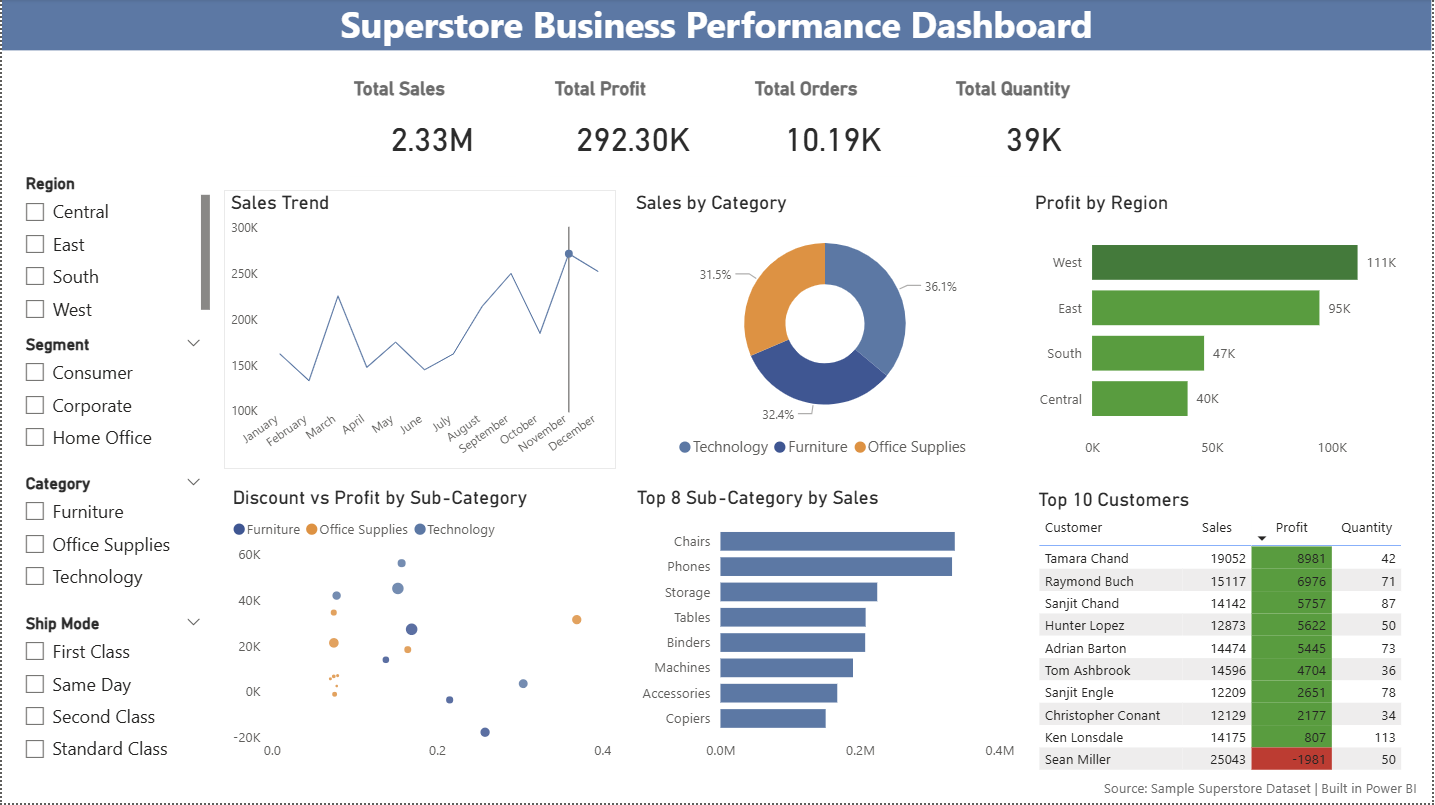

Layout of this report page (visuals, bound fields, positions):
{"tool":"powerbi","page":{"name":"Page 1","canvas":[1280,720],"ordinal":0},"visuals":[{"type":"card","title":"Total Sales","fields":{"Values":["Sum(samplesuperstore.Sales)"]},"box":[309.3,69.3,152.2,91],"z":0},{"type":"card","title":"Total Profit","fields":{"Values":["Sum(samplesuperstore.Profit)"]},"box":[489.3,69.3,152,91],"z":1000},{"type":"card","title":"Total Quantity","fields":{"Values":["Sum(samplesuperstore.Quantity)"]},"box":[848.3,69.3,152,91],"z":2000},{"type":"card","title":"Total Orders","fields":{"Values":["CountNonNull(samplesuperstore.Order ID)"]},"box":[668.3,69.3,152.2,91],"z":3000},{"type":"lineChart","title":"Sales Trend","fields":{"Y":["Sum(samplesuperstore.Sales)"],"Category":["samplesuperstore.Order Date.Variation.Date Hierarchy.Month"]},"box":[199,170.7,351,250],"z":4000},{"type":"donutChart","title":"Sales by Category","fields":{"Category":["samplesuperstore.Category"],"Y":["Sum(samplesuperstore.Sales)"]},"box":[561.5,170.7,351,250],"z":5000},{"type":"clusteredBarChart","title":"Profit by Region","fields":{"Category":["samplesuperstore.Region"],"Y":["Sum(samplesuperstore.Profit)"]},"box":[924,170.7,351,250],"z":6000},{"type":"scatterChart","title":"Discount vs Profit by Sub-Category","fields":{"X":["Avg(samplesuperstore.Discount)"],"Y":["Sum(samplesuperstore.Profit)"],"Category":["samplesuperstore.Sub-Category"],"Size":["Sum(samplesuperstore.Sales)"],"Series":["samplesuperstore.Category"]},"box":[201,435.7,351,257],"z":7000},{"type":"clusteredBarChart","title":"Top 8 Sub-Category by Sales","fields":{"Category":["samplesuperstore.Sub-Category"],"Y":["Sum(samplesuperstore.Sales)"]},"box":[562.5,435.7,351,257],"z":8000},{"type":"tableEx","title":"Top 10 Customers","fields":{"Values":["samplesuperstore.Customer Name","Sum(samplesuperstore.Sales)","Sum(samplesuperstore.Profit)","Sum(samplesuperstore.Quantity)"]},"box":[926,435.7,351,257],"z":9000},{"type":"slicer","fields":{"Values":["samplesuperstore.Region"]},"box":[7,150.9,184.5,144.5],"z":10000},{"type":"slicer","fields":{"Values":["samplesuperstore.Segment"]},"box":[7.3,295.5,184.5,124.5],"z":11000},{"type":"slicer","fields":{"Values":["samplesuperstore.Category"]},"box":[7.3,420,184.5,125.5],"z":12000},{"type":"slicer","fields":{"Values":["samplesuperstore.Ship Mode"]},"box":[7.3,545.5,184.5,146.4],"z":13000},{"type":"textbox","box":[944.5,691.8,327.3,28.2],"z":14000},{"type":"textbox","title":"Superstore Business Performance Dashboard","box":[0,0,1279.7,45.7],"z":15000}]}

Visuals, with their boxes in screenshot pixels (x1, y1, x2, y2), scaled from the page's 1280x720 canvas onto the 1435x805 screenshot:
"Total Sales" card: x1=347 y1=77 x2=517 y2=179
"Total Profit" card: x1=549 y1=77 x2=719 y2=179
"Total Quantity" card: x1=951 y1=77 x2=1121 y2=179
"Total Orders" card: x1=749 y1=77 x2=920 y2=179
"Sales Trend" lineChart: x1=223 y1=191 x2=617 y2=470
"Sales by Category" donutChart: x1=629 y1=191 x2=1023 y2=470
"Profit by Region" clusteredBarChart: x1=1036 y1=191 x2=1429 y2=470
"Discount vs Profit by Sub-Category" scatterChart: x1=225 y1=487 x2=619 y2=774
"Top 8 Sub-Category by Sales" clusteredBarChart: x1=631 y1=487 x2=1024 y2=774
"Top 10 Customers" tableEx: x1=1038 y1=487 x2=1432 y2=774
slicer - samplesuperstore.Region: x1=8 y1=169 x2=215 y2=330
slicer - samplesuperstore.Segment: x1=8 y1=330 x2=215 y2=470
slicer - samplesuperstore.Category: x1=8 y1=470 x2=215 y2=610
slicer - samplesuperstore.Ship Mode: x1=8 y1=610 x2=215 y2=774
textbox: x1=1059 y1=773 x2=1426 y2=804
"Superstore Business Performance Dashboard" textbox: x1=0 y1=0 x2=1434 y2=51
